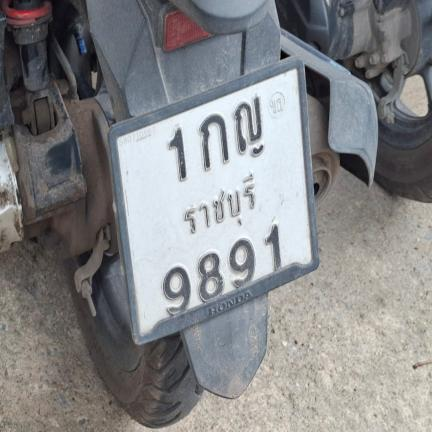1: (165, 122, 188, 183), (260, 222, 285, 273)
8: (194, 248, 226, 303)
9: (158, 262, 192, 318), (227, 237, 257, 290)
A01: (199, 109, 231, 171)
A13: (232, 93, 266, 157)
RBR: (178, 167, 267, 247)
